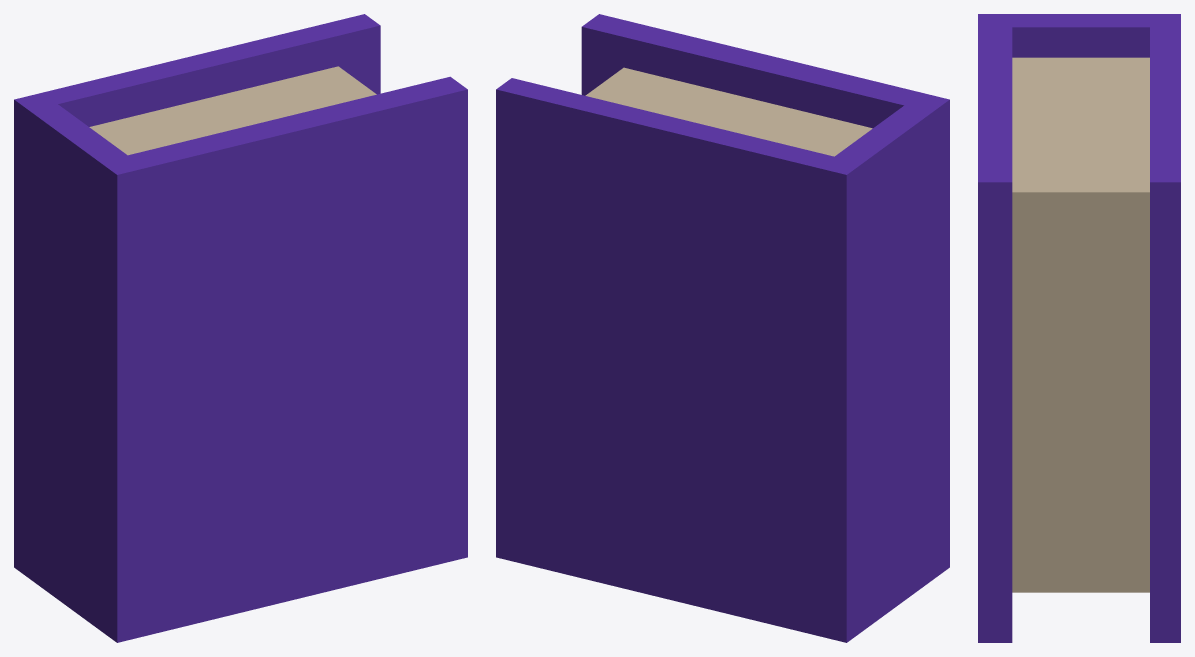
The model's file is handmade_6.obj.
3 renders of one model, left to right at view 1: azimuth 30°, elevation 25°; view 2: azimuth 150°, elevation 25°; view 3: azimuth 270°, elevation 25°, orthographic.
Visible parts, largest first — view 1: model; view 2: model; view 3: model.
Part boxes in pixels (bbox=[...]): model: bbox=[14, 14, 467, 642]; model: bbox=[496, 14, 949, 642]; model: bbox=[978, 14, 1180, 642].
Size of the model in its own units: 0.4491 by 0.5726 by 0.2286.
